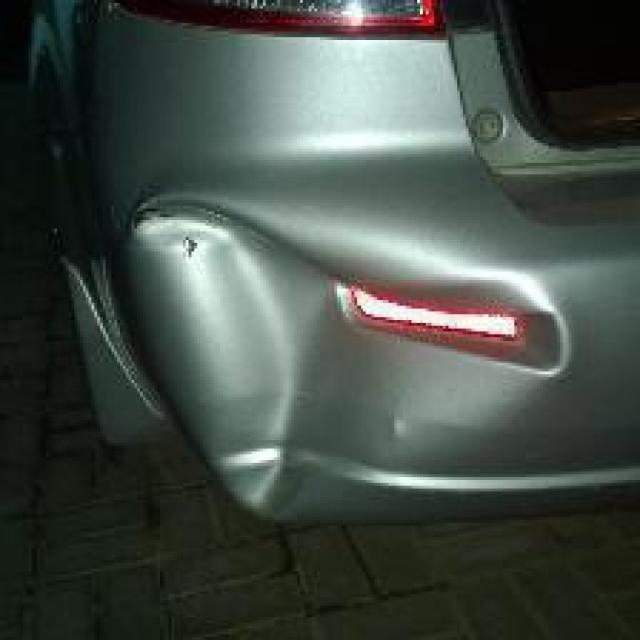damaged: (120, 188, 577, 528)
